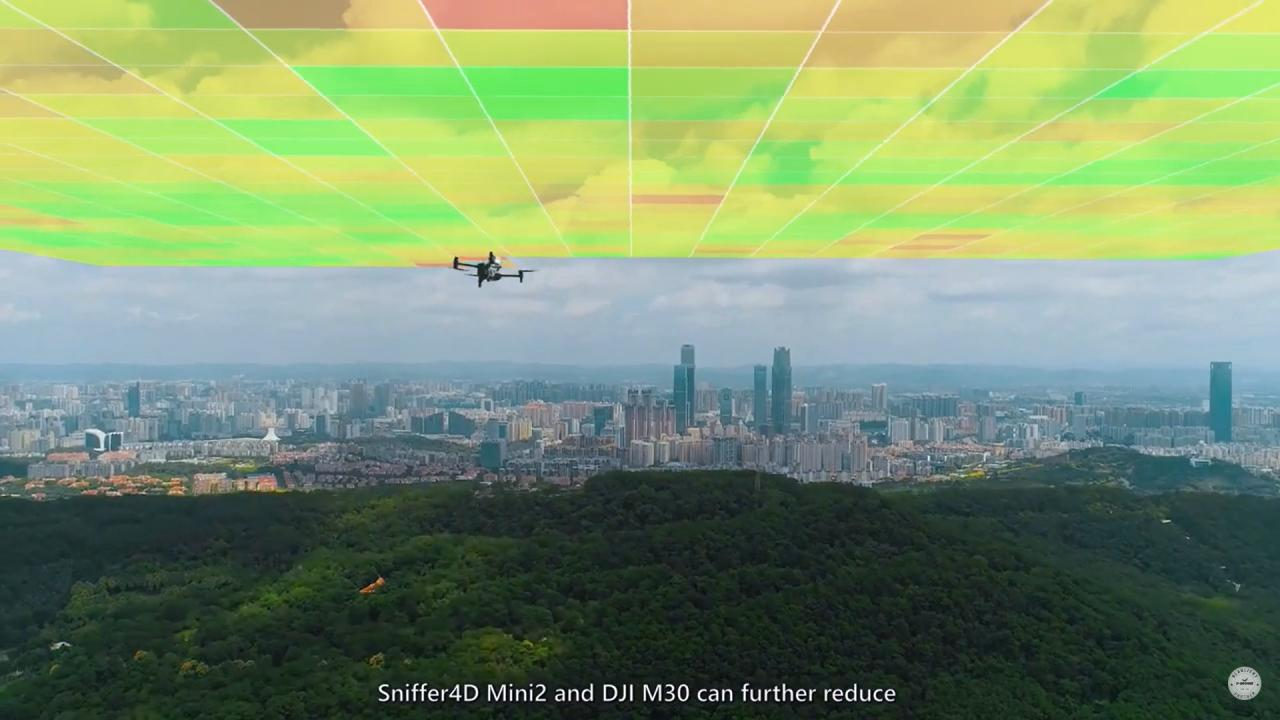Drone: (428, 250, 541, 294)
